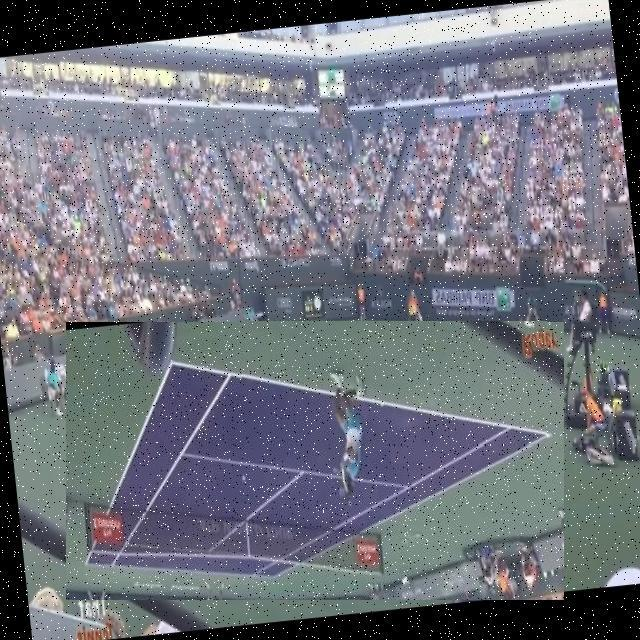court: (66, 322, 564, 600)
net: (242, 316, 547, 446)
player: (252, 413, 308, 553)
